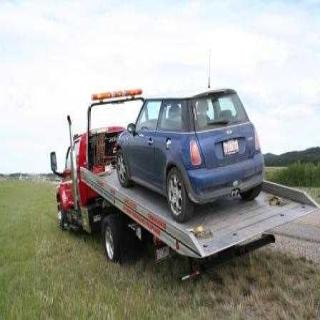Towing_truck: (49, 85, 317, 282)
